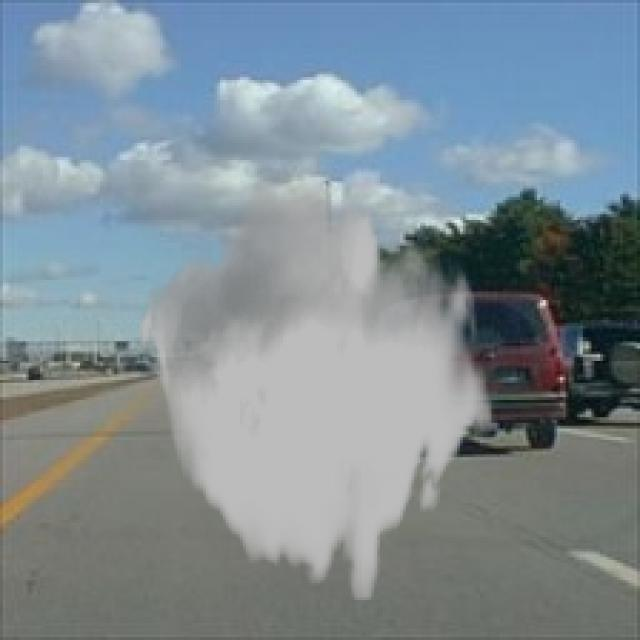smoke: (137, 177, 494, 600)
